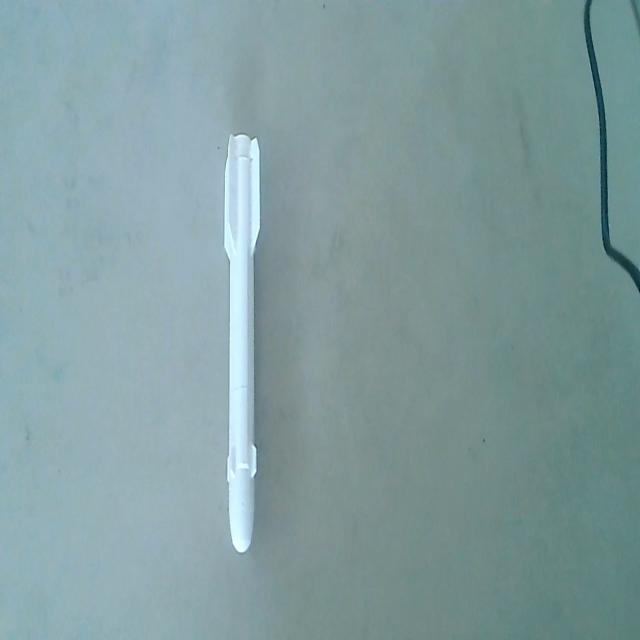Rocket: (222, 131, 262, 557)
